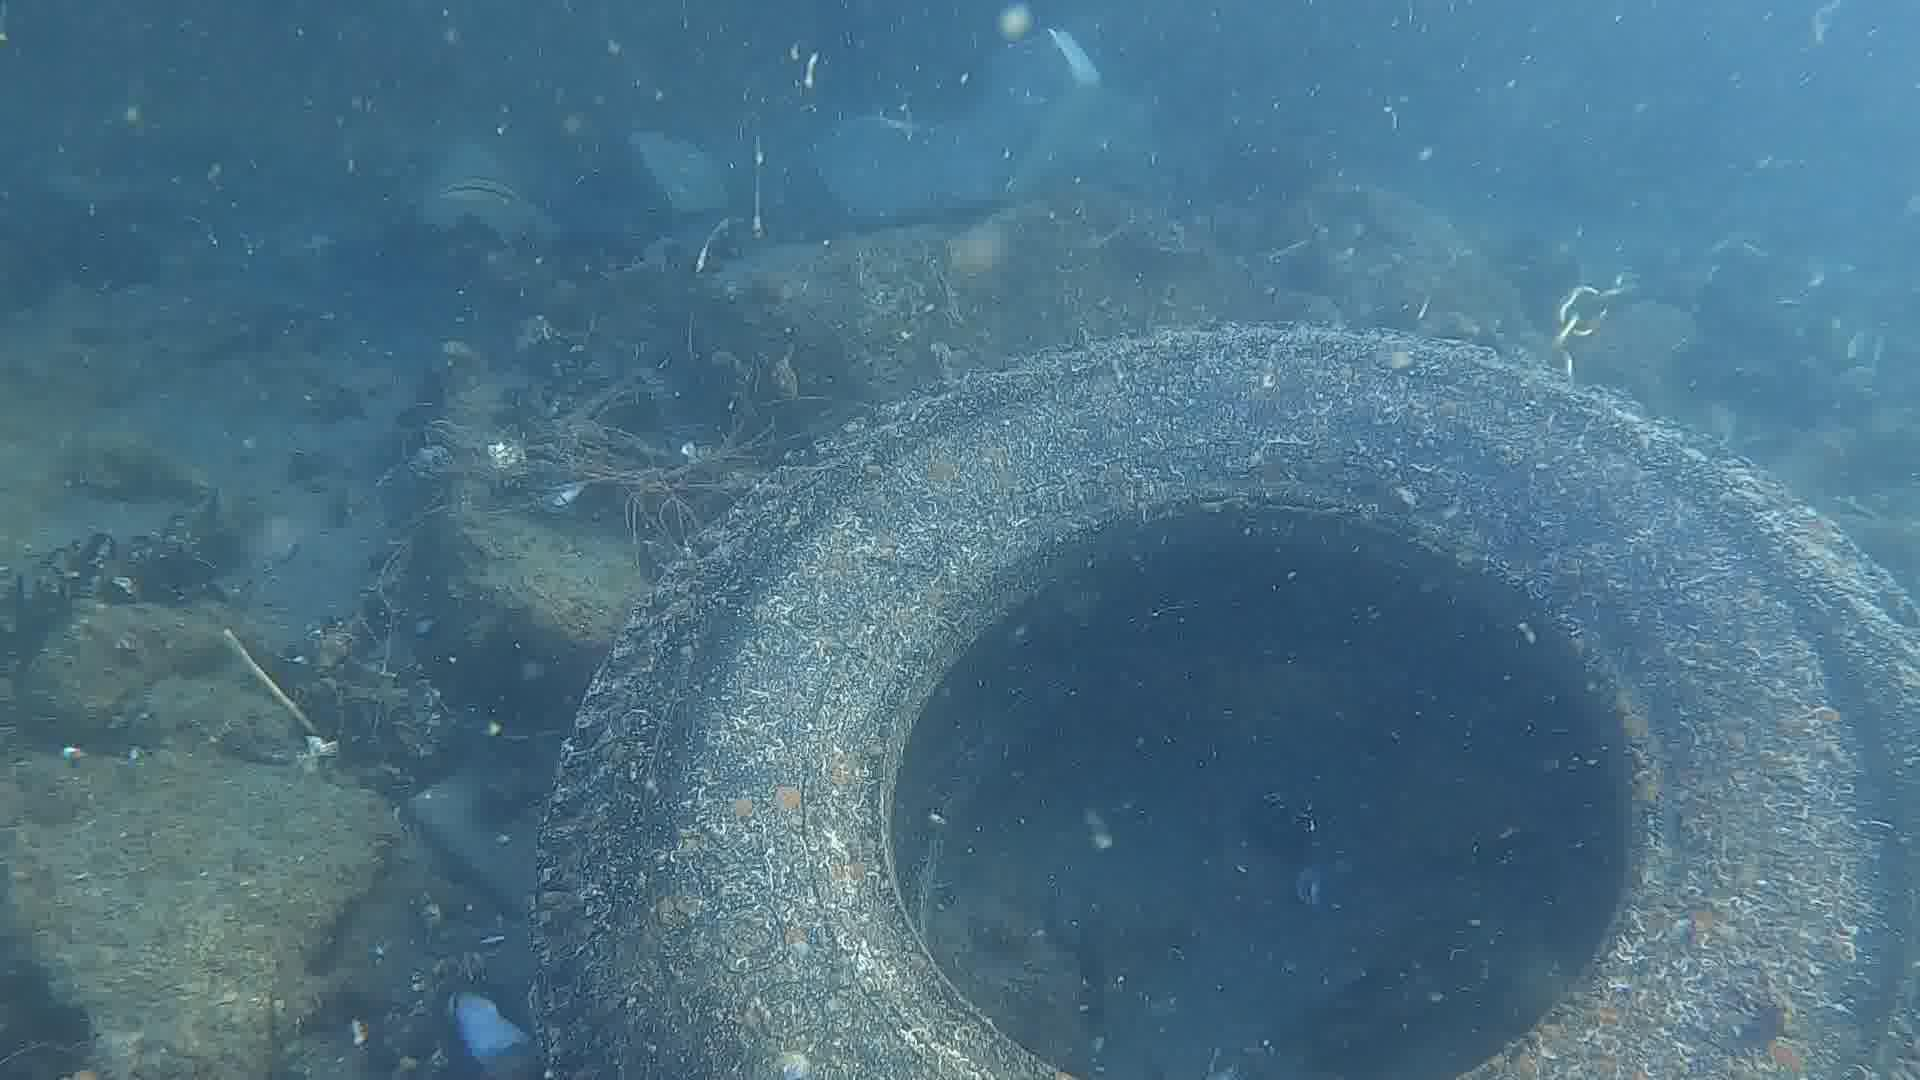tire: (531, 328, 1920, 1080)
